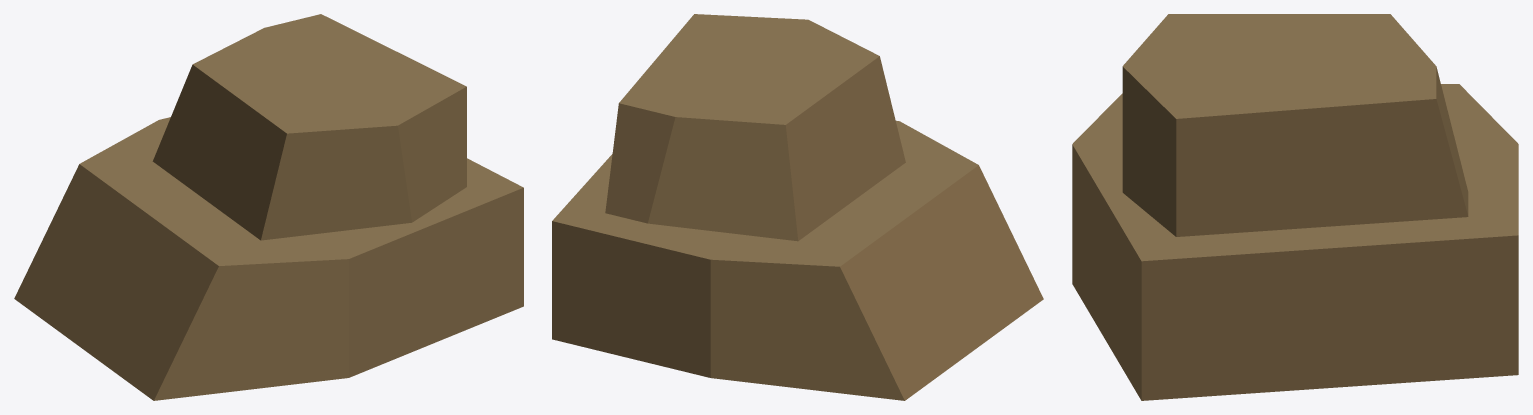
The model's file is ST_Env_Block_Dirt_02.fbx.
3 renders of one model, left to right at view 1: azimuth 30°, elevation 25°; view 2: azimuth 150°, elevation 25°; view 3: azimuth 270°, elevation 25°, orthographic. The views are drawn at different scales.
Parts seen in each view (by area): view 1: ST_Env_Block_Dirt_02; view 2: ST_Env_Block_Dirt_02; view 3: ST_Env_Block_Dirt_02.
Part boxes in pixels (box(x1,y1,x2,y2)): ST_Env_Block_Dirt_02: box(14, 14, 523, 400); ST_Env_Block_Dirt_02: box(552, 14, 1043, 400); ST_Env_Block_Dirt_02: box(1072, 14, 1518, 400).
Size of the model in its own units: 3.27 by 1.83 by 2.88.
